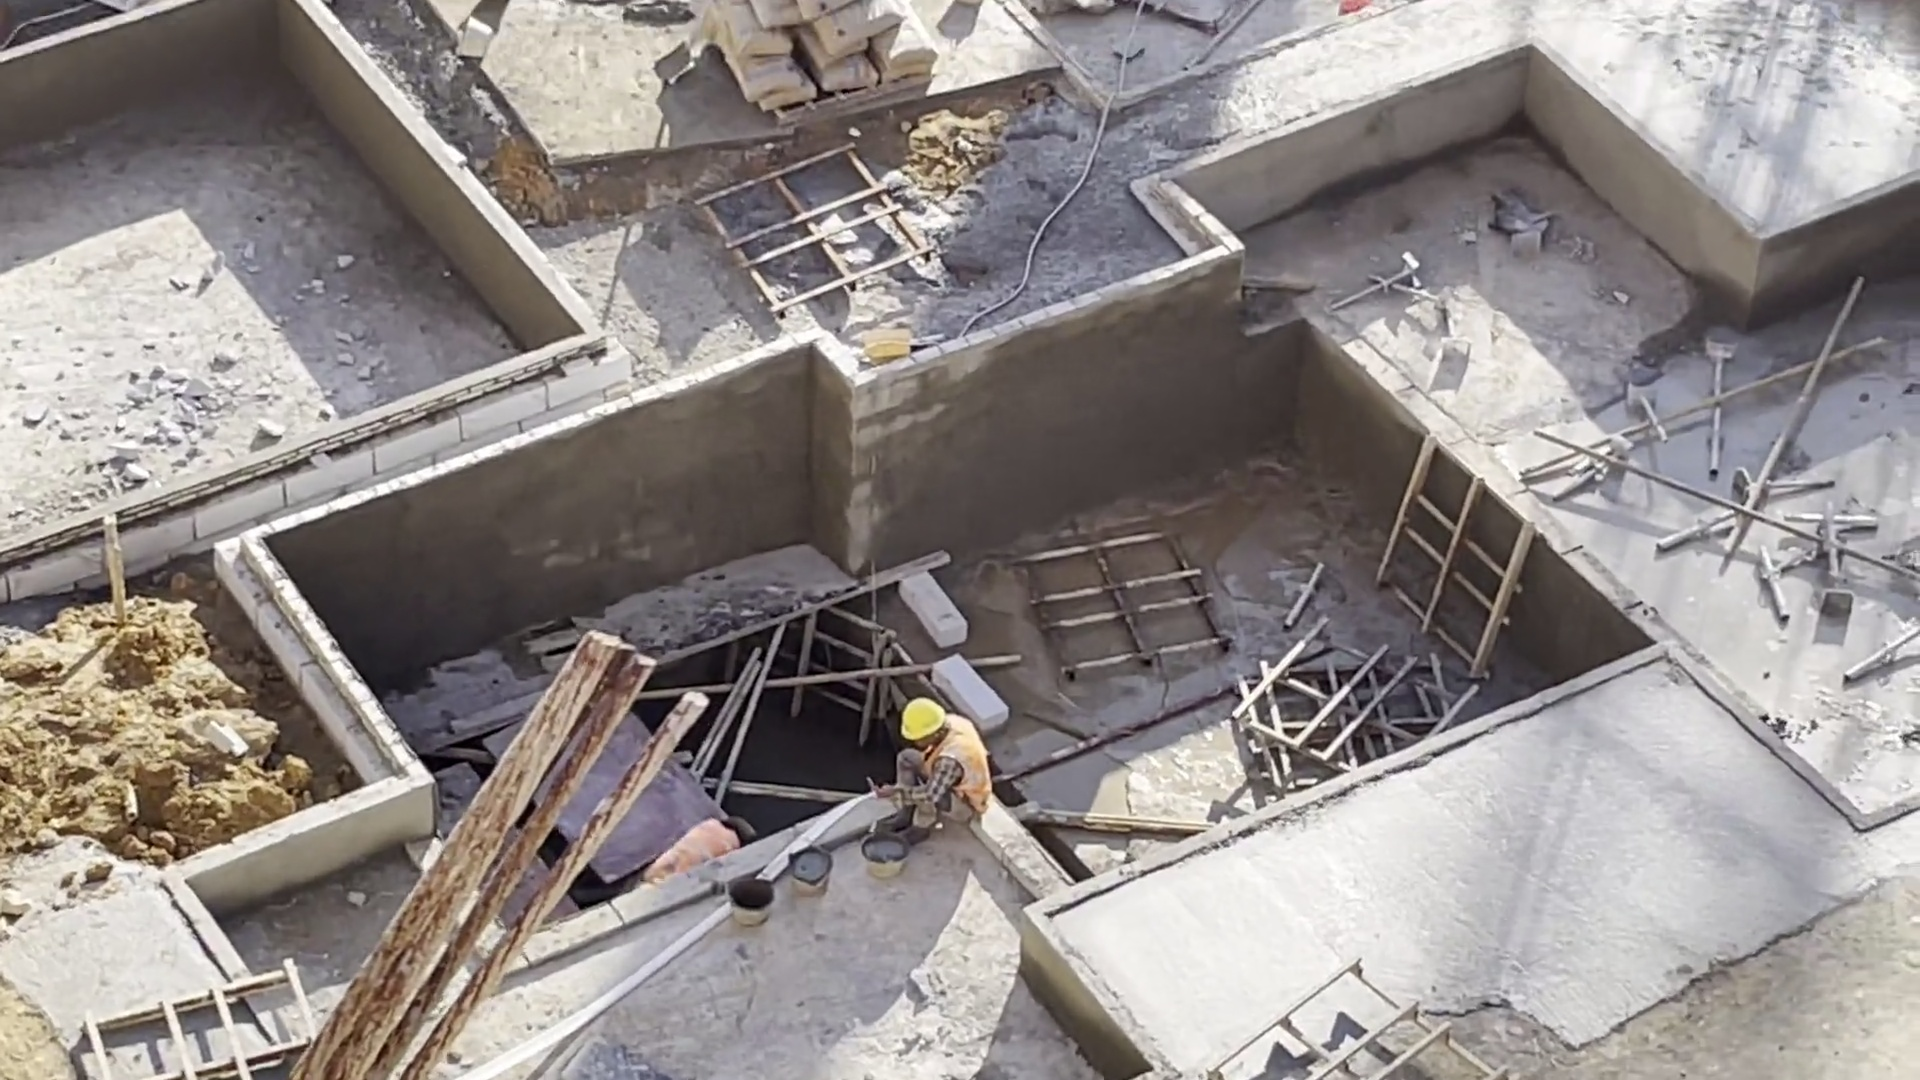helmet: (892, 698, 949, 742)
person: (866, 689, 1021, 834), (625, 827, 785, 904)
vest: (927, 716, 1000, 816), (655, 816, 749, 874)
